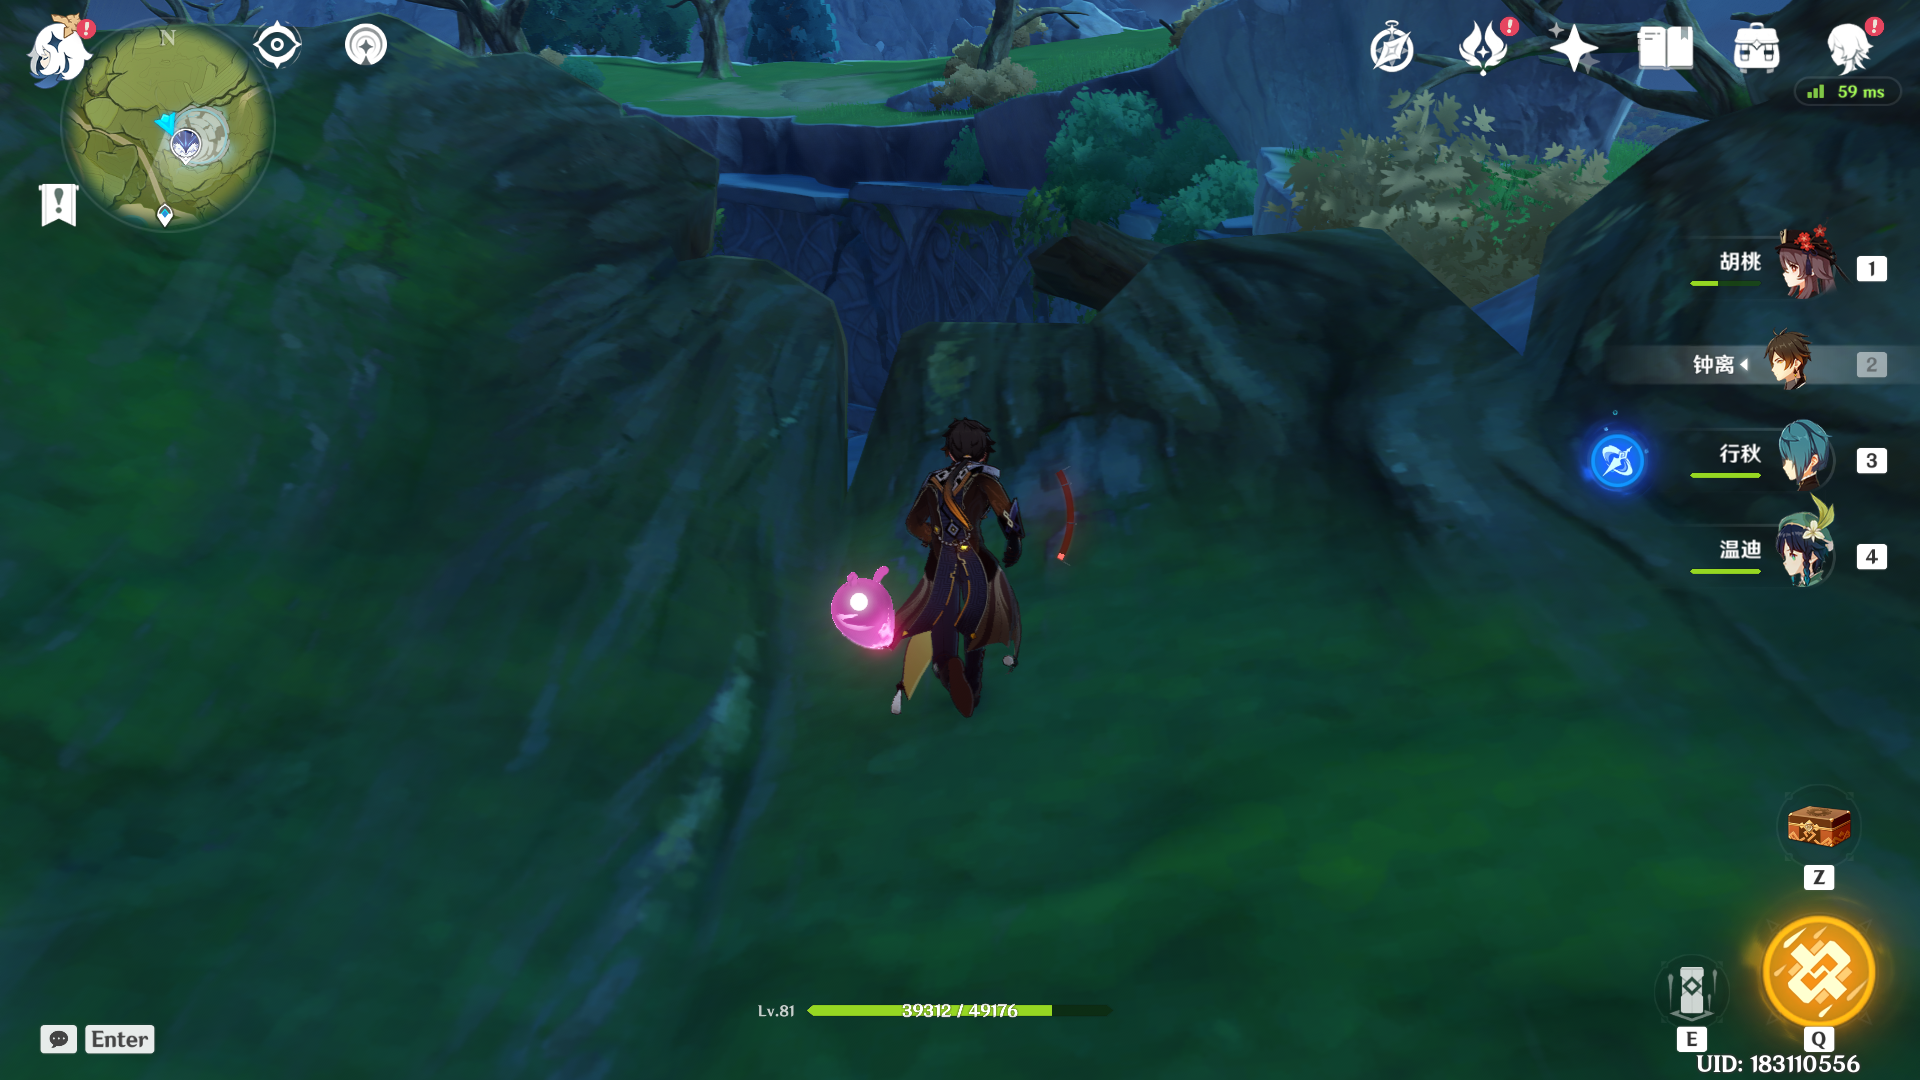character: (812, 382, 1083, 725)
